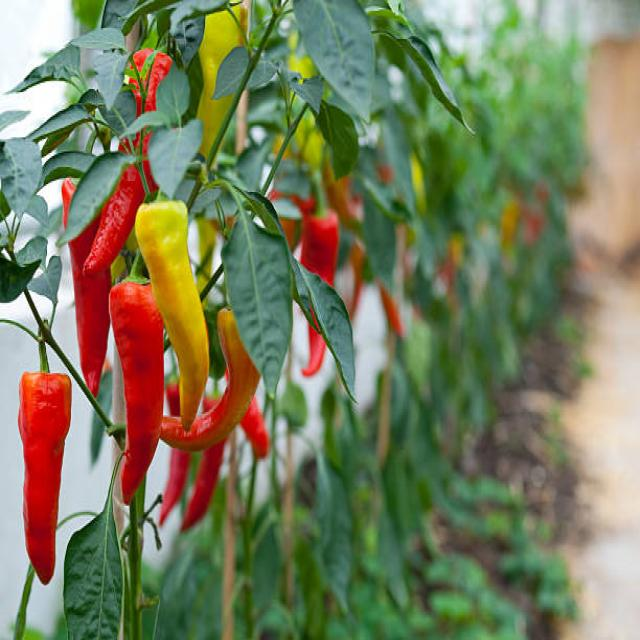Half-Ripe: (134, 200, 208, 429), (159, 309, 259, 451)
Ripe: (110, 283, 163, 503), (18, 372, 71, 584), (69, 217, 110, 393), (85, 165, 144, 273)
